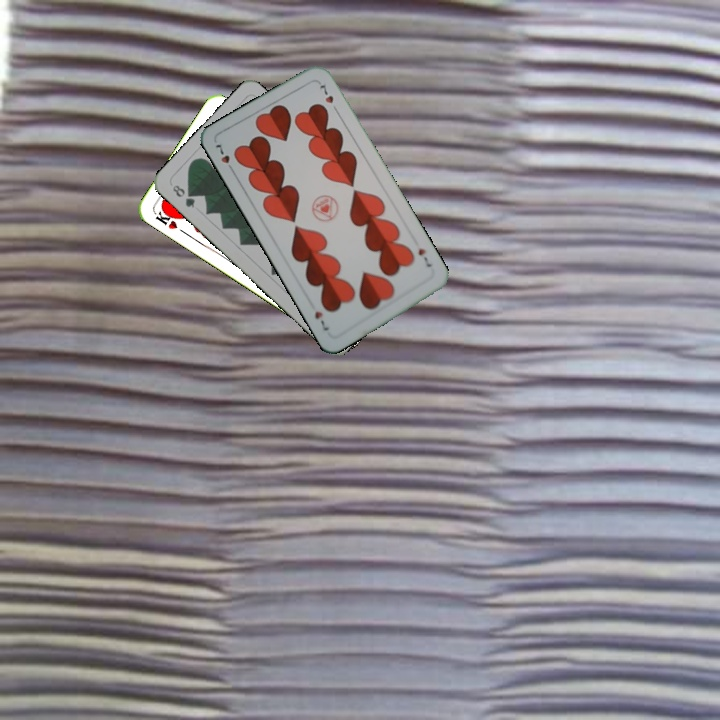G8: (168, 181, 198, 210)
H7: (211, 138, 237, 176), (414, 244, 434, 270)
HK: (150, 204, 180, 232)
